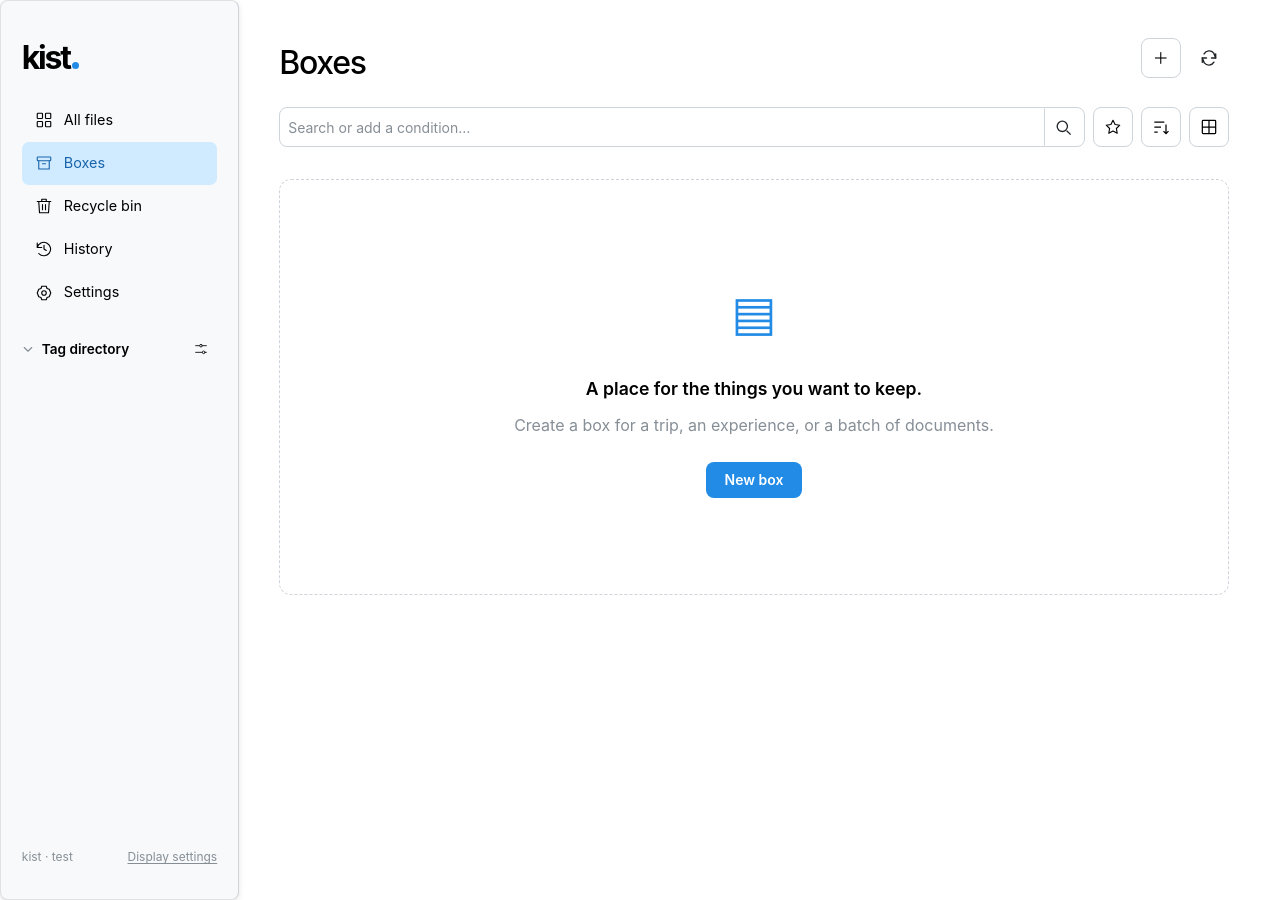
Test: closes the dialog with Escape and restores keyboard focus
Click the button "Display settings": (172, 858) [128,848,217,867]
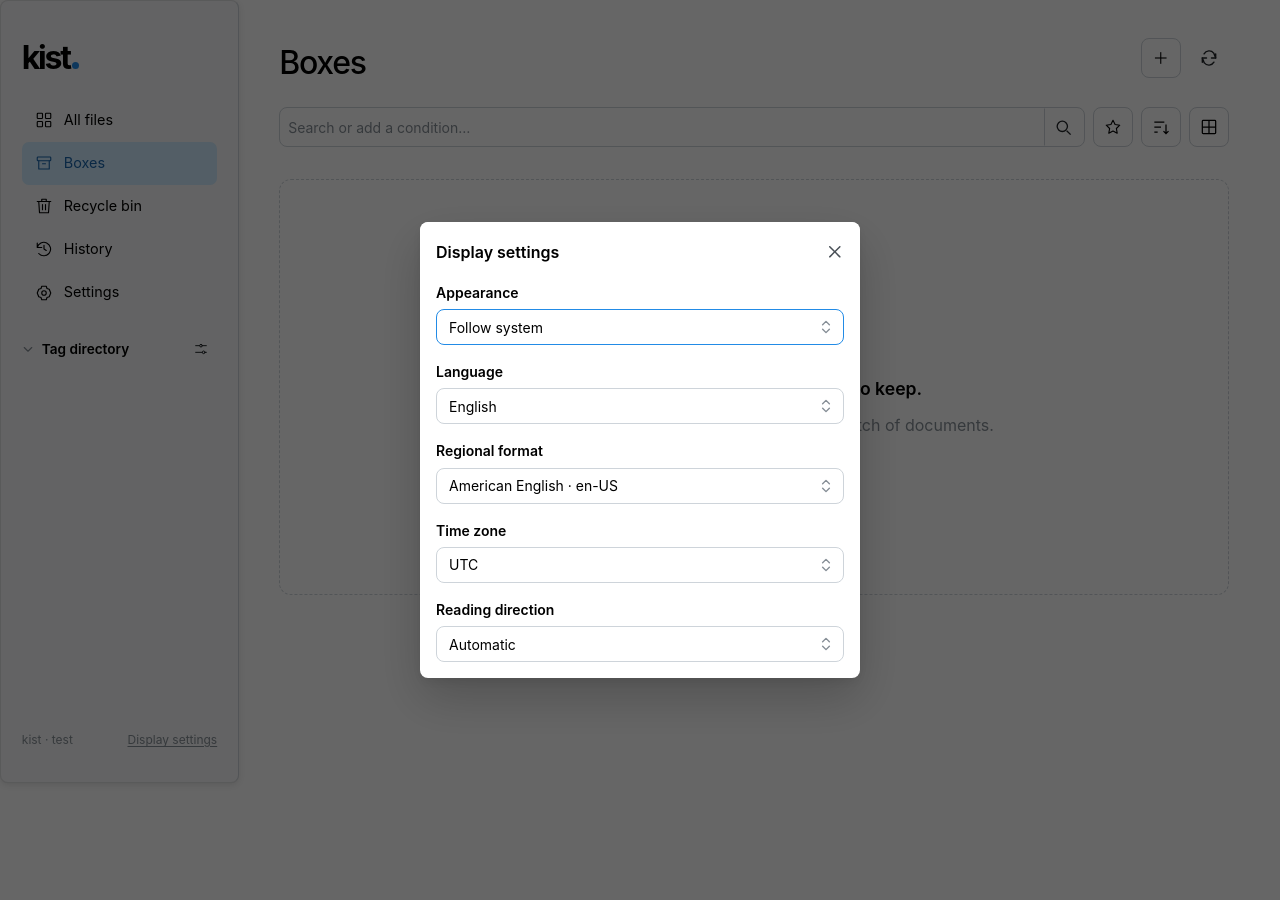
Press Escape
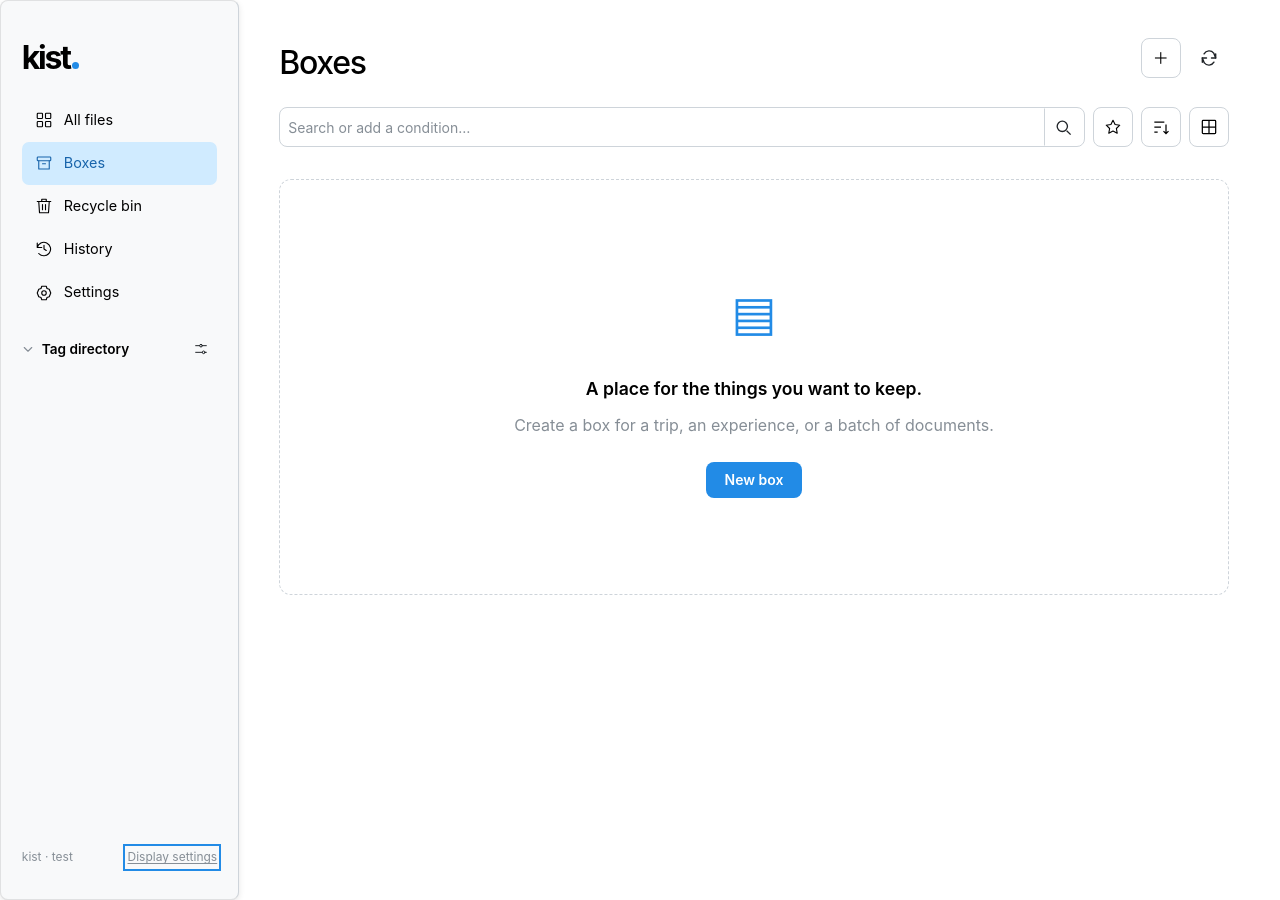
Check: the dialog is gone
